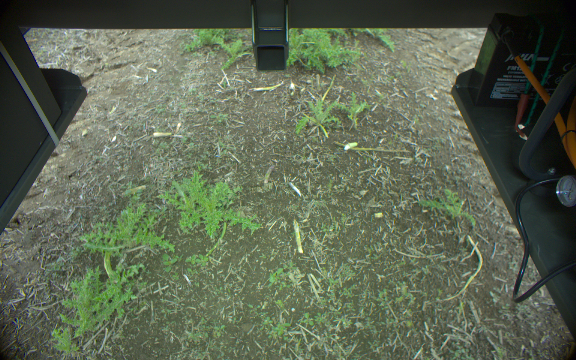aspa: (103, 239, 119, 279), (290, 218, 304, 256)
